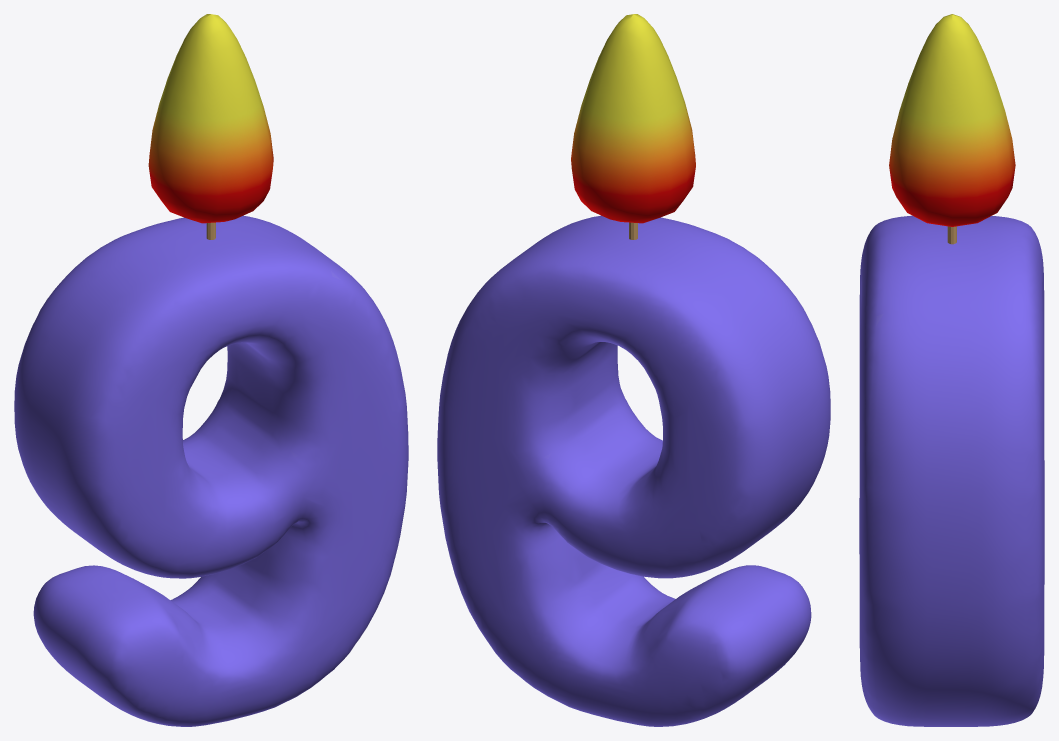
Rendered from candle_9.glb.
The picture shows the model from 3 angles, left to right: view 1: azimuth 30°, elevation 25°; view 2: azimuth 150°, elevation 25°; view 3: azimuth 270°, elevation 25°; orthographic projection.
Parts seen in each view (by area): view 1: candle_9, fire.009; view 2: candle_9, fire.009; view 3: candle_9, fire.009.
Boxes of the visible parts, left/top/right/bottom form: candle_9: left=14, top=215, right=408, bottom=726; fire.009: left=148, top=14, right=273, bottom=223; candle_9: left=437, top=215, right=830, bottom=726; fire.009: left=571, top=14, right=695, bottom=223; candle_9: left=859, top=215, right=1044, bottom=726; fire.009: left=889, top=14, right=1015, bottom=226.
Bounding box in the file's own units: 0.4963 × 0.9497 × 0.2294.
Materials: 1 (1 with a texture image).
